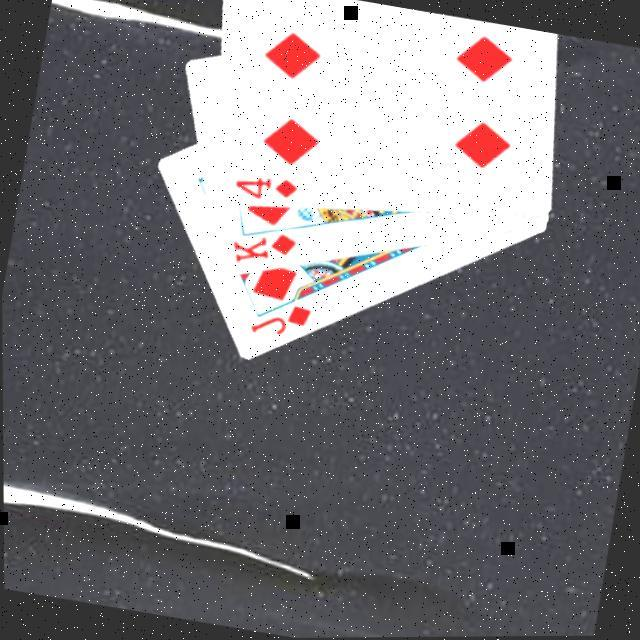4D: (230, 166, 302, 207)
JD: (247, 292, 318, 346)
KD: (227, 220, 304, 274)
